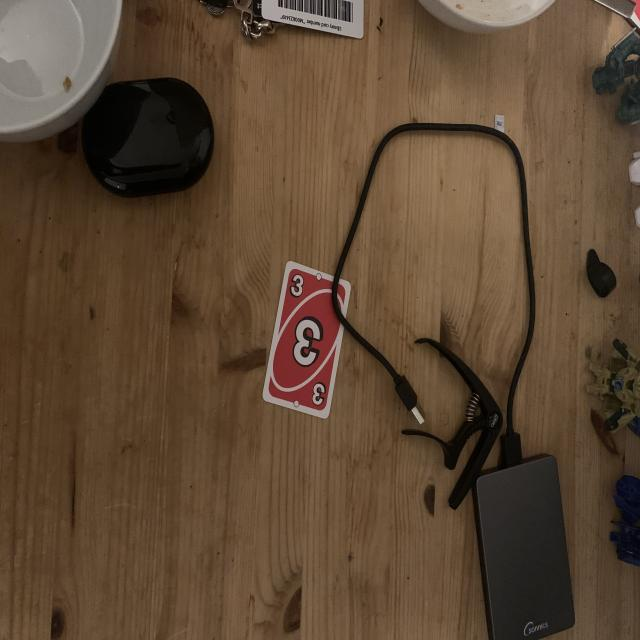lred-3: (285, 269, 308, 302)
